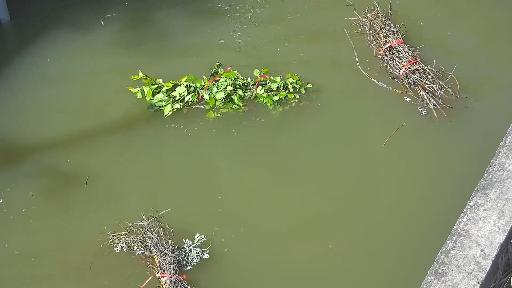twig: (328, 2, 468, 115), (121, 65, 324, 116), (101, 213, 208, 288)
